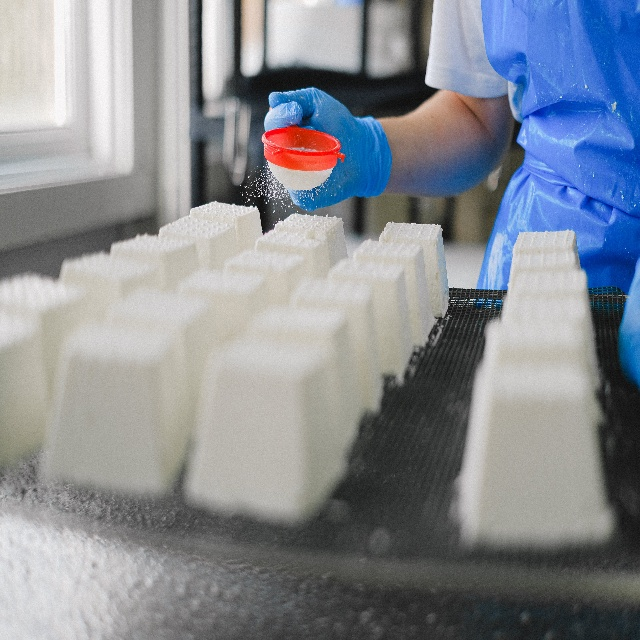Guantes: (263, 85, 392, 211)
